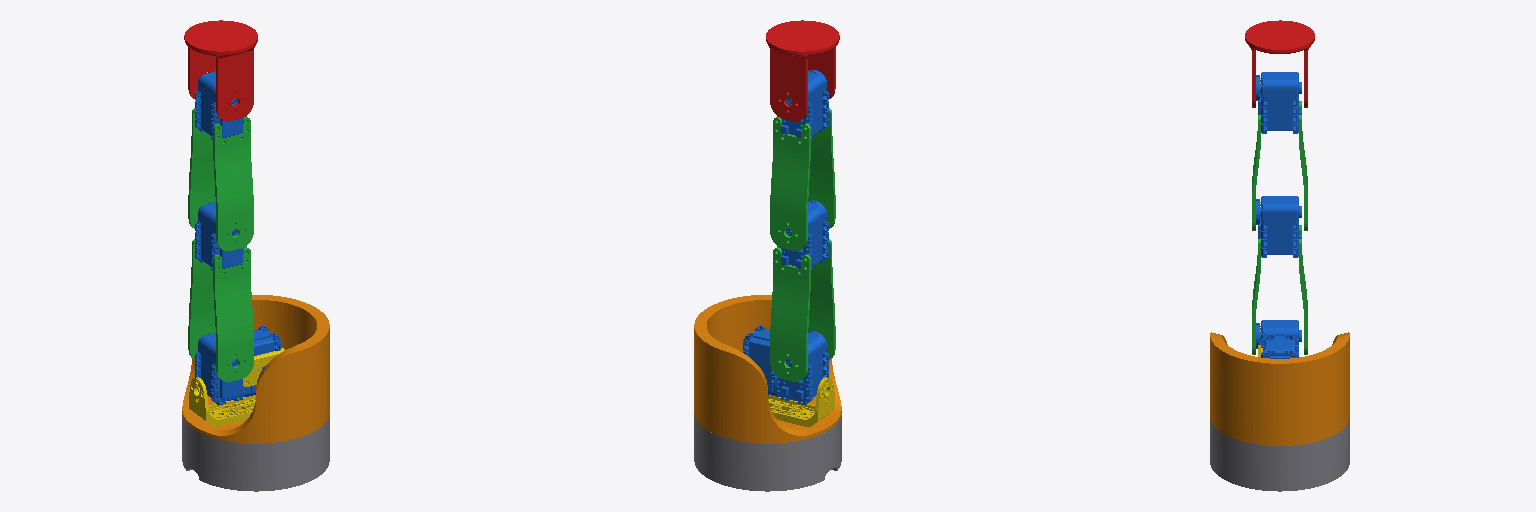
robot.urdf — desky:
<?xml version="1.0"?>
<!--
  desky 5-DOF arm — Unified Robot Description Format (URDF).

  Built from the Fusion 360 export in kinematics/configure/ (manifest.json +
  joints.json) and the STL meshes in kinematics/meshes/. Every joint origin
  below is the REAL relative transform between two occurrences' absolute
  world_transform (manifest.json), not a placeholder — computed as
  T_parent^-1 * T_child. bracket_f5/bracket_f6/link1/link2/guard/base_shell/
  end_effector are rigid (non-actuated) mesh links between the 5 actuated
  DYNAMIXEL stages, matching the physical build order:

      base_link -> base_shell -> dynamixel1 -> guard -> bracket_f5
                -> dynamixel2 -> bracket_f6 -> dynamixel3 -> link1
                -> dynamixel4 -> link2 -> dynamixel5 -> end_effector

  Each dynamixel body's own local Z axis (from its world_transform rotation)
  is its output-shaft axis, so every revolute <axis> below is (0 0 1) with
  the real orientation baked into that joint's <origin rpy>. Cross-checked
  against joints.json's 5 revolute joints: their axis directions (Y, X, X, Z,
  X relative to the bracket graph) match this file's per-dynamixel axes (Z,
  Y, X, X, X) as the same multiset, confirming both sources agree on the
  physical axes even though joints.json's bracket-level occurrence graph
  (via "PRT0006:1") doesn't reduce to a clean serial chain on its own.

  Units: meters and radians (mesh scale handles the mm -> m STL conversion).
  home_deg/direction are still PLACEHOLDERS (servo calibration, not
  geometry) — measure the real servo zero positions and update them; the
  <dynamixel> block is a project-specific extension read by urdf_loader.py,
  standard URDF tools ignore it.

  <limit> (per joint, in radians relative to q=0) is generated by
  kinematics/find_joint_limits.py, which sweeps each joint in MuJoCo (using
  the <collision> geoms below) and stops at the servo's physical 0-300 deg
  range or the first self-collision, whichever comes first. It does NOT
  depend on home_deg/direction, so it stays valid across recalibration —
  but the "physical range" half of that sweep does read home_deg/direction,
  so re-run the script after calibrating them for real.

  <inertial> on each dynamixel link is a PLACEHOLDER too (AX-18A's real ~55g
  mass, but a made-up box inertia) — MuJoCo's compiler rejects moving bodies
  with zero mass/inertia (unlike pybullet, which tolerates a missing
  <inertial>), so this is only here to satisfy that requirement for
  kinematics/mujoco_sim.py. It doesn't affect FK/IK (kinematics.kinematics.Arm
  never reads mass/inertia) or urdf_loader.py (ignores <inertial> entirely).
-->
<robot name="desky">

  <!-- This URDF only has <visual> meshes, no <collision> geoms. MuJoCo's
       URDF importer discards visual-only geoms unless told otherwise, which
       left the viewer window empty (0 geoms compiled). -->
  <mujoco>
    <compiler discardvisual="false"/>
  </mujoco>

  <!-- ===================== Links ===================== -->
  <link name="base_link"/>

  <link name="base_shell">
    <visual>
      <origin xyz="0 0 0" rpy="0 0 0"/>
      <geometry><mesh filename="../meshes/base.stl" scale="0.001 0.001 0.001"/></geometry>
      <material name="mat_base_stl"><color rgba="0.55 0.55 0.58 1"/></material>
    </visual>
    <collision>
      <origin xyz="0 0 0" rpy="0 0 0"/>
      <geometry><mesh filename="../meshes/base.stl" scale="0.001 0.001 0.001"/></geometry>
    </collision>
  </link>

  <link name="dynamixel1">
    <visual>
      <origin xyz="0 0 0" rpy="0 0 0"/>
      <geometry><mesh filename="../meshes/dynamixel.stl" scale="0.001 0.001 0.001"/></geometry>
      <material name="mat_dynamixel_stl"><color rgba="0.15 0.45 0.85 1"/></material>
    </visual>
    <collision>
      <origin xyz="0 0 0" rpy="0 0 0"/>
      <geometry><mesh filename="../meshes/dynamixel.stl" scale="0.001 0.001 0.001"/></geometry>
    </collision>
    <inertial>
      <origin xyz="0 -0.0135 0.00102" rpy="0 0 0"/>
      <mass value="0.055"/>
      <inertia ixx="1.9e-5" ixy="0" ixz="0" iyy="1.2e-5" iyz="0" izz="1.6e-5"/>
    </inertial>
  </link>

  <link name="guard">
    <visual>
      <origin xyz="0 0 0" rpy="0 0 0"/>
      <geometry><mesh filename="../meshes/gaurd.stl" scale="0.001 0.001 0.001"/></geometry>
      <material name="mat_gaurd_stl"><color rgba="0.90 0.55 0.10 1"/></material>
    </visual>
    <collision>
      <origin xyz="0 0 0" rpy="0 0 0"/>
      <geometry><mesh filename="../meshes/gaurd.stl" scale="0.001 0.001 0.001"/></geometry>
    </collision>
  </link>

  <link name="bracket_f5">
    <visual>
      <origin xyz="0 0 0" rpy="0 0 0"/>
      <geometry><mesh filename="../meshes/bracket_f5.stl" scale="0.001 0.001 0.001"/></geometry>
      <material name="mat_bracket_f5_stl"><color rgba="0.90 0.80 0.10 1"/></material>
    </visual>
    <collision>
      <origin xyz="0 0 0" rpy="0 0 0"/>
      <geometry><mesh filename="../meshes/bracket_f5.stl" scale="0.001 0.001 0.001"/></geometry>
    </collision>
  </link>

  <link name="dynamixel2">
    <visual>
      <origin xyz="0 0 0" rpy="0 0 0"/>
      <geometry><mesh filename="../meshes/dynamixel.stl" scale="0.001 0.001 0.001"/></geometry>
      <material name="mat_dynamixel_stl"><color rgba="0.15 0.45 0.85 1"/></material>
    </visual>
    <collision>
      <origin xyz="0 0 0" rpy="0 0 0"/>
      <geometry><mesh filename="../meshes/dynamixel.stl" scale="0.001 0.001 0.001"/></geometry>
    </collision>
    <inertial>
      <origin xyz="0 -0.0135 0.00102" rpy="0 0 0"/>
      <mass value="0.055"/>
      <inertia ixx="1.9e-5" ixy="0" ixz="0" iyy="1.2e-5" iyz="0" izz="1.6e-5"/>
    </inertial>
  </link>

  <link name="bracket_f6">
    <visual>
      <origin xyz="0 0 0" rpy="0 0 0"/>
      <geometry><mesh filename="../meshes/bracket_f6.stl" scale="0.001 0.001 0.001"/></geometry>
      <material name="mat_bracket_f6_stl"><color rgba="0.90 0.80 0.10 1"/></material>
    </visual>
    <collision>
      <origin xyz="0 0 0" rpy="0 0 0"/>
      <geometry><mesh filename="../meshes/bracket_f6.stl" scale="0.001 0.001 0.001"/></geometry>
    </collision>
  </link>

  <link name="dynamixel3">
    <visual>
      <origin xyz="0 0 0" rpy="0 0 0"/>
      <geometry><mesh filename="../meshes/dynamixel.stl" scale="0.001 0.001 0.001"/></geometry>
      <material name="mat_dynamixel_stl"><color rgba="0.15 0.45 0.85 1"/></material>
    </visual>
    <collision>
      <origin xyz="0 0 0" rpy="0 0 0"/>
      <geometry><mesh filename="../meshes/dynamixel.stl" scale="0.001 0.001 0.001"/></geometry>
    </collision>
    <inertial>
      <origin xyz="0 -0.0135 0.00102" rpy="0 0 0"/>
      <mass value="0.055"/>
      <inertia ixx="1.9e-5" ixy="0" ixz="0" iyy="1.2e-5" iyz="0" izz="1.6e-5"/>
    </inertial>
  </link>

  <link name="link1">
    <visual>
      <origin xyz="0 0 0" rpy="0 0 0"/>
      <geometry><mesh filename="../meshes/link.stl" scale="0.001 0.001 0.001"/></geometry>
      <material name="mat_link_stl"><color rgba="0.20 0.75 0.30 1"/></material>
    </visual>
    <collision>
      <origin xyz="0 0 0" rpy="0 0 0"/>
      <geometry><mesh filename="../meshes/link.stl" scale="0.001 0.001 0.001"/></geometry>
    </collision>
  </link>

  <link name="dynamixel4">
    <visual>
      <origin xyz="0 0 0" rpy="0 0 0"/>
      <geometry><mesh filename="../meshes/dynamixel.stl" scale="0.001 0.001 0.001"/></geometry>
      <material name="mat_dynamixel_stl"><color rgba="0.15 0.45 0.85 1"/></material>
    </visual>
    <collision>
      <origin xyz="0 0 0" rpy="0 0 0"/>
      <geometry><mesh filename="../meshes/dynamixel.stl" scale="0.001 0.001 0.001"/></geometry>
    </collision>
    <inertial>
      <origin xyz="0 -0.0135 0.00102" rpy="0 0 0"/>
      <mass value="0.055"/>
      <inertia ixx="1.9e-5" ixy="0" ixz="0" iyy="1.2e-5" iyz="0" izz="1.6e-5"/>
    </inertial>
  </link>

  <link name="link2">
    <visual>
      <origin xyz="0 0 0" rpy="0 0 0"/>
      <geometry><mesh filename="../meshes/link.stl" scale="0.001 0.001 0.001"/></geometry>
      <material name="mat_link_stl"><color rgba="0.20 0.75 0.30 1"/></material>
    </visual>
    <collision>
      <origin xyz="0 0 0" rpy="0 0 0"/>
      <geometry><mesh filename="../meshes/link.stl" scale="0.001 0.001 0.001"/></geometry>
    </collision>
  </link>

  <link name="dynamixel5">
    <visual>
      <origin xyz="0 0 0" rpy="0 0 0"/>
      <geometry><mesh filename="../meshes/dynamixel.stl" scale="0.001 0.001 0.001"/></geometry>
      <material name="mat_dynamixel_stl"><color rgba="0.15 0.45 0.85 1"/></material>
    </visual>
    <collision>
      <origin xyz="0 0 0" rpy="0 0 0"/>
      <geometry><mesh filename="../meshes/dynamixel.stl" scale="0.001 0.001 0.001"/></geometry>
    </collision>
    <inertial>
      <origin xyz="0 -0.0135 0.00102" rpy="0 0 0"/>
      <mass value="0.055"/>
      <inertia ixx="1.9e-5" ixy="0" ixz="0" iyy="1.2e-5" iyz="0" izz="1.6e-5"/>
    </inertial>
  </link>

  <!-- End-effector: the phone mount. -->
  <link name="end_effector">
    <visual>
      <origin xyz="0 0 0" rpy="0 0 0"/>
      <geometry><mesh filename="../meshes/end_effector.stl" scale="0.001 0.001 0.001"/></geometry>
      <material name="mat_end_effector_stl"><color rgba="0.85 0.15 0.15 1"/></material>
    </visual>
    <collision>
      <origin xyz="0 0 0" rpy="0 0 0"/>
      <geometry><mesh filename="../meshes/end_effector.stl" scale="0.001 0.001 0.001"/></geometry>
    </collision>
  </link>

  <!-- No visual: a bare marker frame at the centre of end_effector's FAR face
       (farthest from joint5/dynamixel5, i.e. the actual mount surface a phone
       or camera sits against) — not the mesh's bounding-box centre. The mesh's
       local bbox is x:[-30,30] y:[-62.75,-2.75] z:[368.13,434.0] mm (comp_4_1's
       Fusion world_transform is coincidentally identity, so its STL vertices
       are already in this "absolute-looking" local frame); box centre would be
       z=401.06, but z=434.0 (verified the farther one from joint5 by composing
       the full FK chain) is the outward face, so x/y stay at the box's centre
       (0, -32.75) and only z moves to the far edge. This is the point
       kinematics.Arm.fk()/tool_offset reports as the end-effector position. -->
  <link name="tool_tip"/>

  <!-- ===================== Joints ===================== -->
  <joint name="base_shell_joint" type="fixed">
    <parent link="base_link"/>
    <child link="base_shell"/>
    <!-- -90 deg about Z: the Fusion export's whole assembly sat rotated 90 deg
         off from the intended world frame. This is the one place to correct
         it — before joint1, so joint1's own axis (world Z, yaw) is untouched
         (a Z rotation can't change the Z axis) while every downstream frame
         rotates with it, landing joint2's axis on world +X (was +Y) and
         joints 3/4/5's shared axis on world -Y (was +X). Relative geometry
         between links, so self-collision-free limits, are unchanged. -->
    <origin xyz="0 0 0" rpy="0 0 -1.5708"/>
  </joint>

  <joint name="joint1" type="revolute">
    <parent link="base_shell"/>
    <child link="dynamixel1"/>
    <origin xyz="0 0 0.067" rpy="0 0 0"/>
    <axis xyz="0 0 1"/>                          <!-- yaw : shaft along world Z -->
    <limit lower="-2.05949" upper="3.10669" effort="1.5" velocity="6.0"/>
    <dynamixel id="1" model="AX-18A" home_deg="180" direction="1"/>
  </joint>

  <joint name="guard_joint" type="fixed">
    <parent link="dynamixel1"/>
    <child link="guard"/>
    <origin xyz="0 0 -0.067" rpy="0 0 0"/>
  </joint>

  <joint name="bracket_f5_joint" type="fixed">
    <parent link="guard"/>
    <child link="bracket_f5"/>
    <origin xyz="0 -0.016 0.12" rpy="3.14159 0 3.14159"/>
  </joint>

  <joint name="joint2" type="revolute">
    <parent link="bracket_f5"/>
    <child link="dynamixel2"/>
    <origin xyz="0 0.01525 0" rpy="1.5708 0 3.14159"/>
    <axis xyz="0 0 1"/>                          <!-- roll : shaft along world Y -->
    <limit lower="-0.13090" upper="0.13090" effort="1.5" velocity="6.0"/>
    <coupled_limit joint="joint3">
      <point q="-1.14319" lower="-0.13090" upper="0.13090"/>
      <point q="-0.80285" lower="-1.35263" upper="1.35263"/>
      <point q="-0.46251" lower="-1.40499" upper="1.40499"/>
      <point q="-0.12217" lower="-1.49226" upper="1.49226"/>
      <point q="0.21817" lower="-1.46608" upper="1.46608"/>
      <point q="0.55851" lower="-1.38754" upper="1.38754"/>
      <point q="0.89884" lower="-1.34390" upper="1.34390"/>
      <point q="1.23918" lower="-1.34390" upper="1.34390"/>
      <point q="1.57952" lower="-1.37008" upper="1.37008"/>
    </coupled_limit>
    <dynamixel id="2" model="AX-18A" home_deg="180" direction="-1"/>
  </joint>

  <joint name="bracket_f6_joint" type="fixed">
    <parent link="dynamixel2"/>
    <child link="bracket_f6"/>
    <origin xyz="0.019 -0.0145 0.016" rpy="0 -1.5708 1.5708"/>
  </joint>

  <joint name="joint3" type="revolute">
    <parent link="bracket_f6"/>
    <child link="dynamixel3"/>
    <origin xyz="-0.048 0.019 0.0145" rpy="1.5708 0 0"/>
    <axis xyz="0 0 1"/>                          <!-- pitch (shoulder) : shaft along world X -->
    <limit lower="-1.14319" upper="1.57952" effort="1.5" velocity="6.0"/>
    <dynamixel id="3" model="AX-18A" home_deg="180" direction="-1"/>
  </joint>

  <joint name="link1_joint" type="fixed">
    <parent link="dynamixel3"/>
    <child link="link1"/>
    <origin xyz="0.03275 -0.149 0" rpy="0 -1.5708 -1.5708"/>
  </joint>

  <joint name="joint4" type="revolute">
    <parent link="link1"/>
    <child link="dynamixel4"/>
    <origin xyz="0 -0.03275 0.2665" rpy="1.5708 0 1.5708"/>
    <axis xyz="0 0 1"/>                          <!-- pitch (elbow) : shaft along world X -->
    <limit lower="-2.19039" upper="2.05949" effort="1.5" velocity="6.0"/>
    <dynamixel id="4" model="AX-18A" home_deg="180" direction="-1"/>
  </joint>

  <joint name="link2_joint" type="fixed">
    <parent link="dynamixel4"/>
    <child link="link2"/>
    <origin xyz="0.03275 -0.149 0" rpy="0 -1.5708 -1.5708"/>
  </joint>

  <joint name="joint5" type="revolute">
    <parent link="link2"/>
    <child link="dynamixel5"/>
    <origin xyz="0 -0.03275 0.2665" rpy="1.5708 0 1.5708"/>
    <axis xyz="0 0 1"/>                          <!-- pitch (wrist) : shaft along world X -->
    <limit lower="-1.57080" upper="1.57080" effort="1.5" velocity="6.0"/>
    <dynamixel id="5" model="AX-18A" home_deg="180" direction="-1"/>
  </joint>

  <joint name="end_effector_joint" type="fixed">
    <parent link="dynamixel5"/>
    <child link="end_effector"/>
    <origin xyz="0.03275 -0.384 0" rpy="0 -1.5708 -1.5708"/>
  </joint>

  <joint name="tool_tip_joint" type="fixed">
    <parent link="end_effector"/>
    <child link="tool_tip"/>
    <origin xyz="0 -0.03275 0.434" rpy="0 0 0"/>
  </joint>

</robot>

--- Facts derived from the render (not from the file) ---
Views: 3 orthographic renders of the robot side by side, from view 1: azimuth 30°, elevation 25°; view 2: azimuth 150°, elevation 25°; view 3: azimuth 270°, elevation 25°.
Robot: desky — 14 links, 13 joints (5 revolute, 8 fixed); root link base_link; default pose: every joint at zero.
Links seen in each view (by area): view 1: guard, base_shell, link1, link2, end_effector, dynamixel3, bracket_f5, dynamixel4, dynamixel5, dynamixel2; view 2: guard, base_shell, link1, link2, end_effector, dynamixel3, bracket_f5, dynamixel4, dynamixel5, dynamixel2; view 3: guard, base_shell, dynamixel4, dynamixel5, end_effector, link1, link2, dynamixel2, dynamixel3.
Boxes of the visible links, left/top/right/bottom form: guard: left=182, top=295, right=329, bottom=443; base_shell: left=182, top=414, right=329, bottom=491; link1: left=188, top=239, right=253, bottom=381; link2: left=188, top=108, right=253, bottom=250; end_effector: left=184, top=20, right=257, bottom=121; dynamixel3: left=195, top=333, right=246, bottom=405; bracket_f5: left=189, top=377, right=255, bottom=427; dynamixel4: left=195, top=202, right=246, bottom=272; dynamixel5: left=195, top=71, right=246, bottom=141; dynamixel2: left=244, top=325, right=280, bottom=396; guard: left=694, top=295, right=841, bottom=443; base_shell: left=694, top=414, right=841, bottom=491; link1: left=770, top=239, right=835, bottom=381; link2: left=770, top=108, right=835, bottom=250; end_effector: left=766, top=20, right=839, bottom=121; dynamixel3: left=777, top=331, right=828, bottom=405; bracket_f5: left=768, top=377, right=834, bottom=427; dynamixel4: left=777, top=200, right=828, bottom=272; dynamixel5: left=777, top=70, right=828, bottom=141; dynamixel2: left=743, top=325, right=779, bottom=396; guard: left=1210, top=332, right=1349, bottom=445; base_shell: left=1210, top=420, right=1349, bottom=491; dynamixel4: left=1256, top=196, right=1301, bottom=257; dynamixel5: left=1256, top=72, right=1301, bottom=133; end_effector: left=1245, top=20, right=1314, bottom=107; link1: left=1252, top=225, right=1307, bottom=354; link2: left=1252, top=101, right=1307, bottom=230; dynamixel2: left=1261, top=334, right=1298, bottom=358; dynamixel3: left=1256, top=320, right=1301, bottom=348.
Size in the robot's own frame: 0.1227 by 0.12 by 0.389 metres.
12 mesh visuals loaded from 7 distinct referenced files (7 binary STL).
